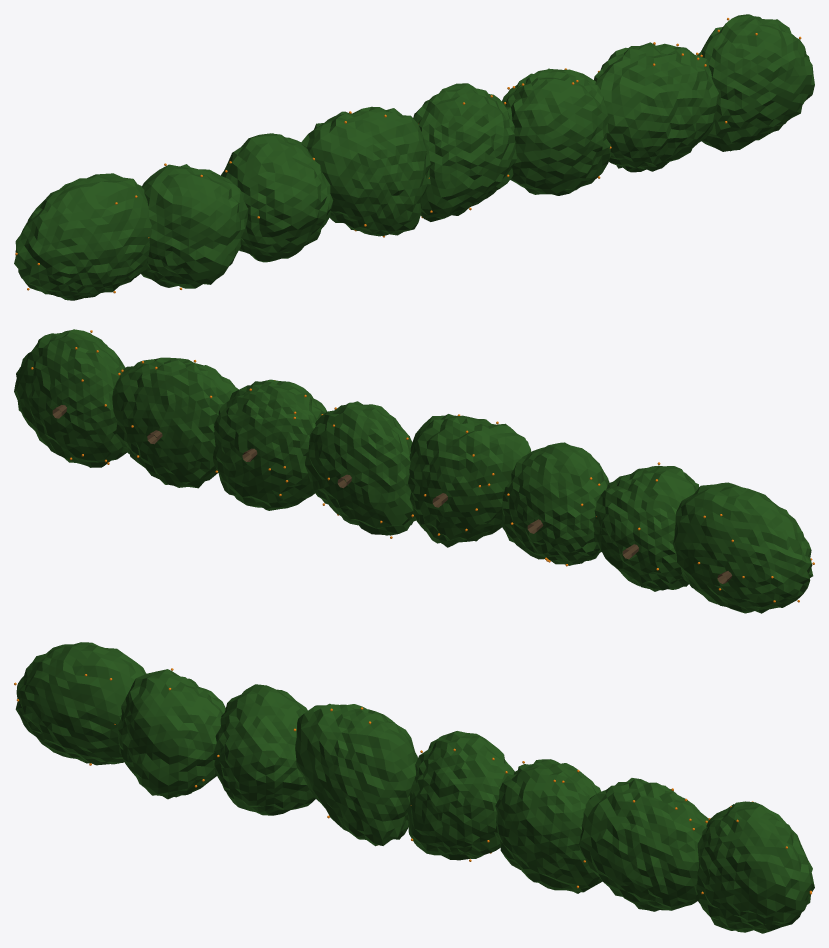
Rendered from citrus_run8_a_fruit.obj.
3 renders of one model, top to bottom at view 1: azimuth 30°, elevation 25°; view 2: azimuth 150°, elevation 25°; view 3: azimuth 330°, elevation 25°, orthographic.
Parts seen in each view (by area): view 1: canopy; view 2: canopy, trunk, fruit; view 3: canopy.
Part boxes in pixels (box(x1,y1,x2,y2)): canopy: box(14, 14, 814, 300); canopy: box(14, 329, 813, 613); trunk: box(52, 405, 732, 583); fruit: box(31, 330, 814, 602); canopy: box(15, 642, 814, 933).
Size of the model in its own units: 25.16 by 4.08 by 3.22.
